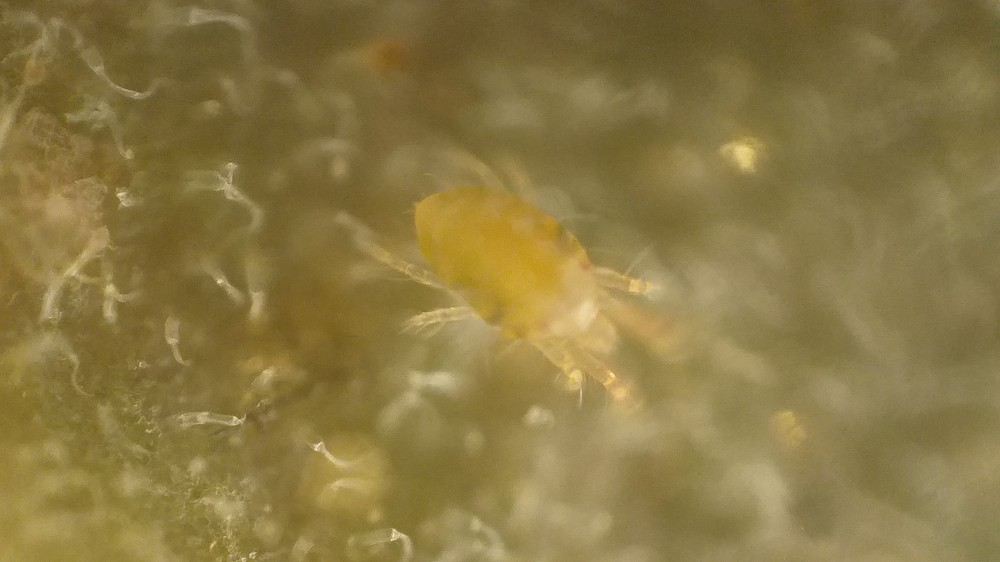Aracnido Rojo: (327, 124, 711, 434)
